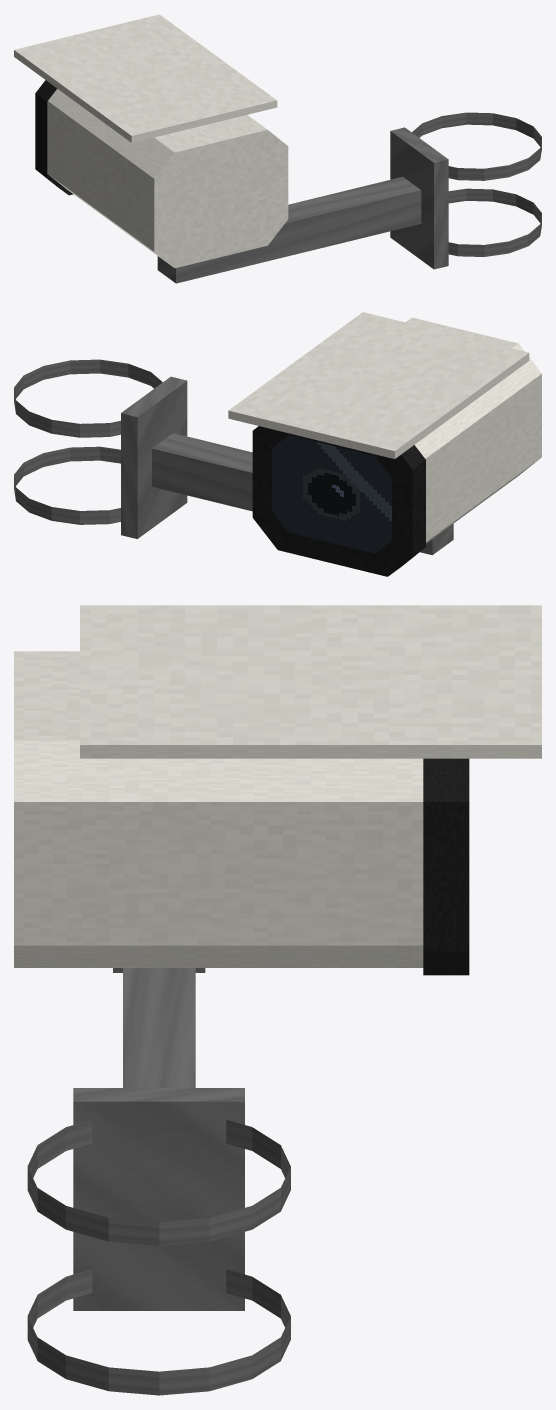
Rendered from red_light_camera_side_right_pedestal.obj.
3 renders of one model, top to bottom at view 1: azimuth 30°, elevation 25°; view 2: azimuth 150°, elevation 25°; view 3: azimuth 270°, elevation 25°, orthographic. The views are drawn at different scales.
Visible parts, largest first — view 1: red_light_camera_side_right_pedestal; view 2: red_light_camera_side_right_pedestal; view 3: red_light_camera_side_right_pedestal.
Part boxes in pixels (left/top/right/bottom): red_light_camera_side_right_pedestal: left=14, top=14, right=541, bottom=283; red_light_camera_side_right_pedestal: left=14, top=312, right=541, bottom=576; red_light_camera_side_right_pedestal: left=14, top=605, right=541, bottom=1395.
Bounding box in the file's own units: 1.45 × 0.675 × 0.8.
